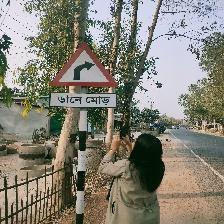Right-turn: (48, 42, 119, 109)
